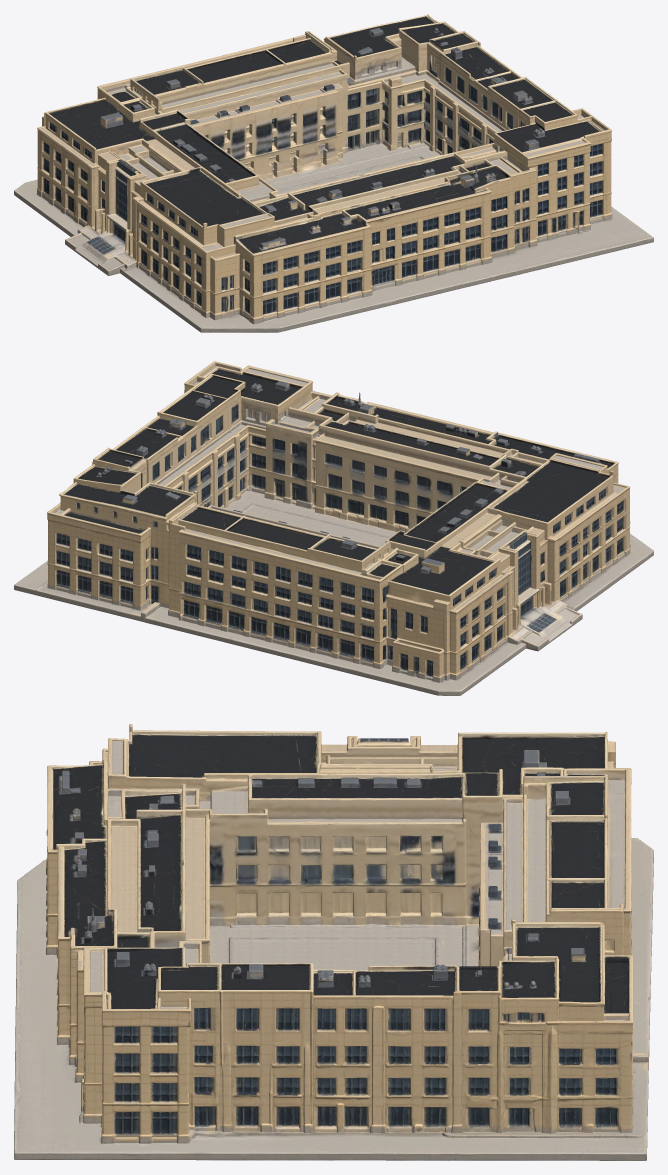
The model's file is yellow-courtyard-detail.glb.
The picture shows the model from 3 angles, top to bottom: view 1: azimuth 30°, elevation 25°; view 2: azimuth 150°, elevation 25°; view 3: azimuth 270°, elevation 25°; orthographic projection. The views are drawn at different scales.
Size of the model in its own units: 1.9 by 0.4212 by 1.58.
1 material, 1 textured.
